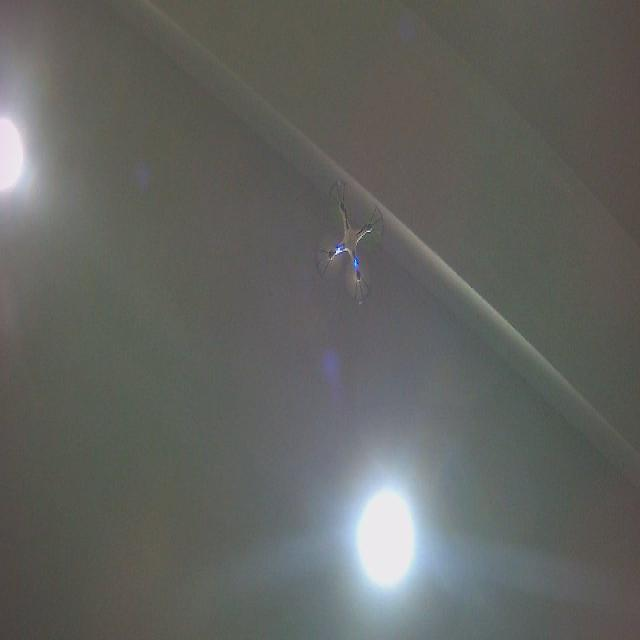drone: (313, 174, 387, 307)
